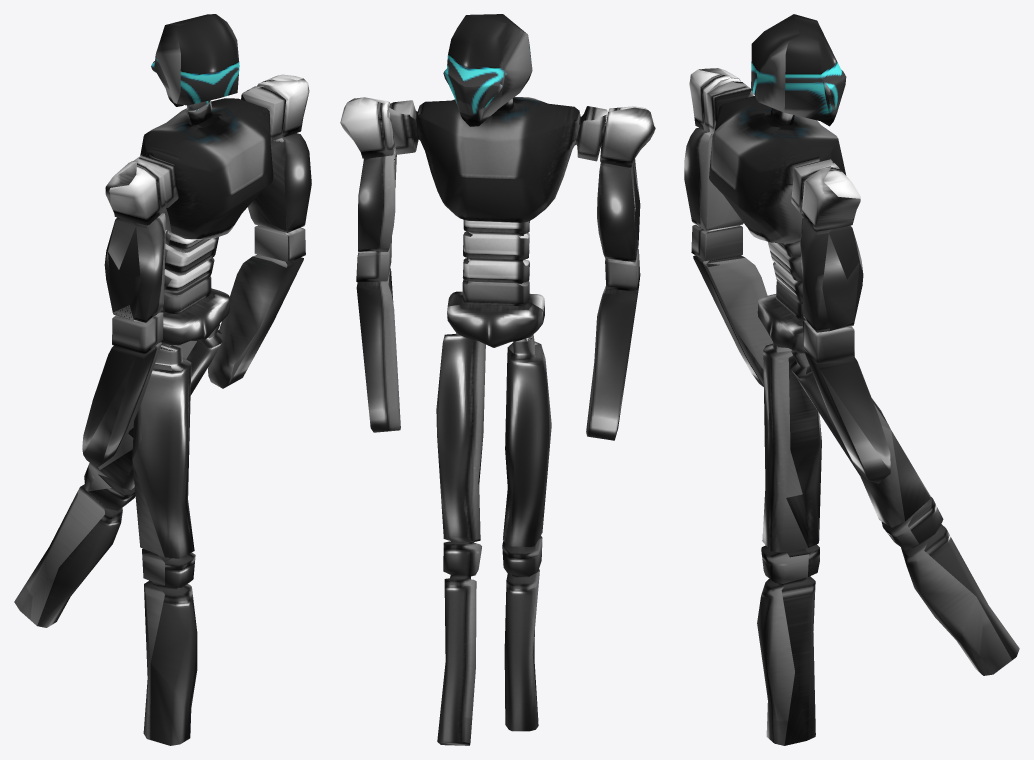
Rendered from frame_013.obj.
3 renders of one model, left to right at view 1: azimuth 30°, elevation 25°; view 2: azimuth 150°, elevation 25°; view 3: azimuth 270°, elevation 25°, orthographic. The views are drawn at different scales.
Parts seen in each view (by area): view 1: Cyborg, PierzaI, PiernaD, AntebrazoD, Cabeza, BrazoD; view 2: Cyborg, PiernaD, PierzaI, Cabeza, AntebrazoD, BrazoD; view 3: Cyborg, PierzaI, PiernaD, AntebrazoD, Cabeza, BrazoD.
Part boxes in pixels (x1,y1,x2,y2): Cyborg: [82, 86, 285, 466]; PierzaI: [132, 342, 197, 745]; PiernaD: [14, 323, 222, 627]; AntebrazoD: [248, 74, 311, 262]; Cabeza: [151, 14, 239, 106]; BrazoD: [208, 254, 303, 388]; Cyborg: [388, 97, 655, 440]; PiernaD: [436, 332, 485, 745]; PierzaI: [502, 334, 551, 731]; Cabeza: [443, 14, 532, 126]; AntebrazoD: [340, 97, 396, 282]; BrazoD: [356, 268, 400, 432]; Cyborg: [684, 68, 846, 386]; PierzaI: [757, 342, 821, 745]; PiernaD: [790, 350, 1019, 675]; AntebrazoD: [800, 166, 863, 363]; Cabeza: [751, 14, 846, 126]; BrazoD: [805, 352, 890, 483].
Bounding box in the file's own units: 9.36 × 24.73 × 10.32.
1 material, 1 textured.
